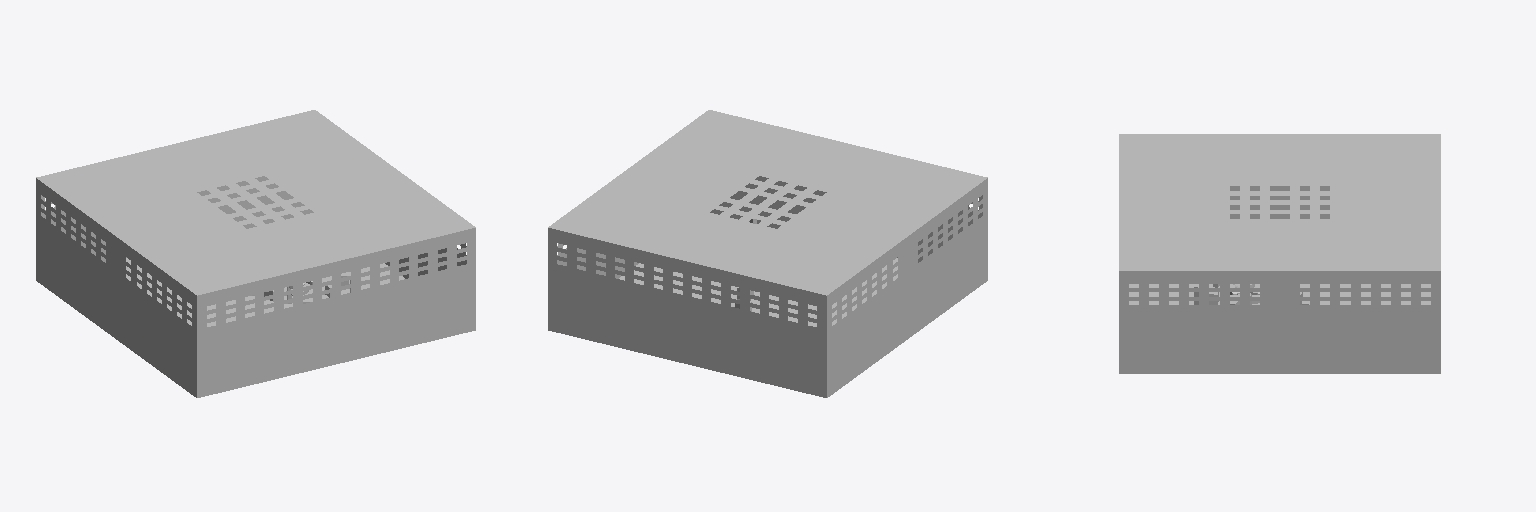
Rendered from SceneMesh.obj.
The picture shows the model from 3 angles: view 1: azimuth 30°, elevation 25°; view 2: azimuth 150°, elevation 25°; view 3: azimuth 270°, elevation 25°; orthographic projection.
Parts seen in each view (by area): view 1: Plane; view 2: Plane; view 3: Plane.
Boxes of the visible parts, box(x1,y1,x2,y2) form: Plane: box(36, 110, 475, 397); Plane: box(548, 110, 987, 397); Plane: box(1119, 134, 1440, 373).
Size of the model in its own units: 53.39 by 19.5 by 53.39.